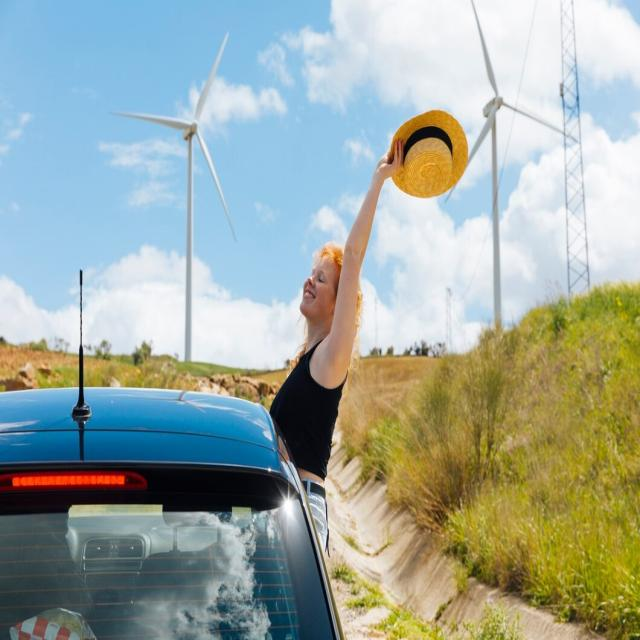solid-blade: (196, 131, 236, 241), (195, 32, 229, 119), (472, 0, 499, 95), (110, 111, 192, 129)
